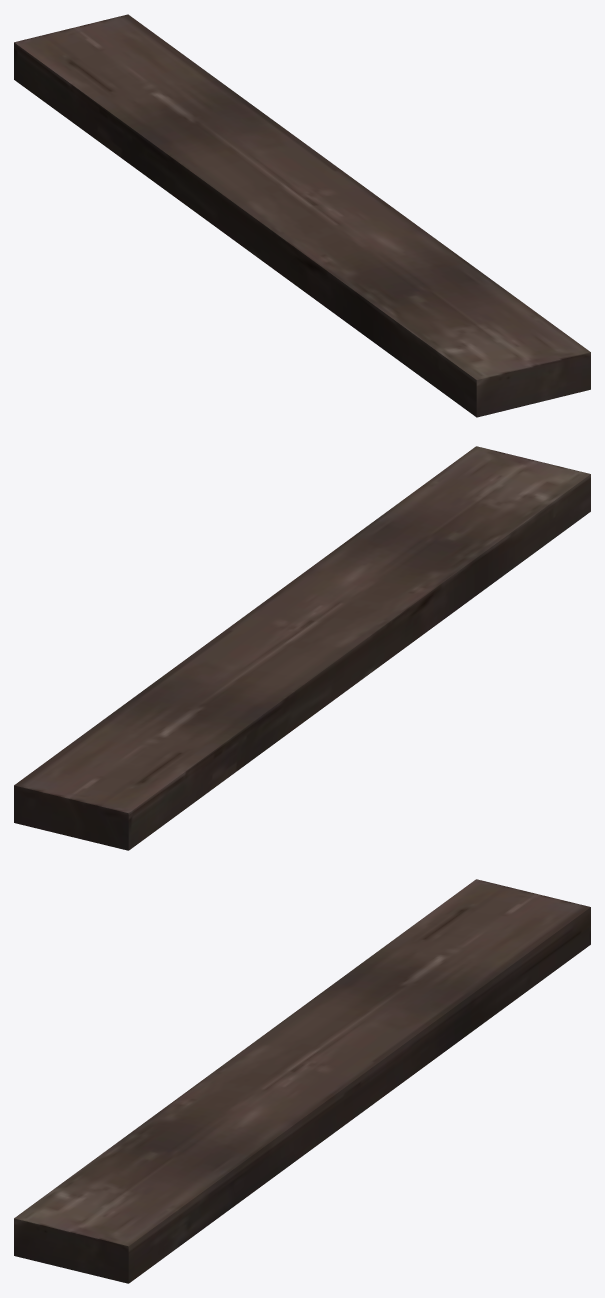
The picture shows the model from 3 angles, top to bottom: view 1: azimuth 30°, elevation 25°; view 2: azimuth 150°, elevation 25°; view 3: azimuth 330°, elevation 25°; orthographic projection.
Parts seen in each view (by area): view 1: body0_model0_lod0_mesh0; view 2: body0_model0_lod0_mesh0; view 3: body0_model0_lod0_mesh0.
Part boxes in pixels (x1=…): body0_model0_lod0_mesh0: x1=14, y1=14, x2=590, y2=417; body0_model0_lod0_mesh0: x1=14, y1=446, x2=590, y2=850; body0_model0_lod0_mesh0: x1=14, y1=879, x2=590, y2=1283.
Size of the model in its own units: 8.06 by 2.5 by 56.01.
1 material, 1 textured.
